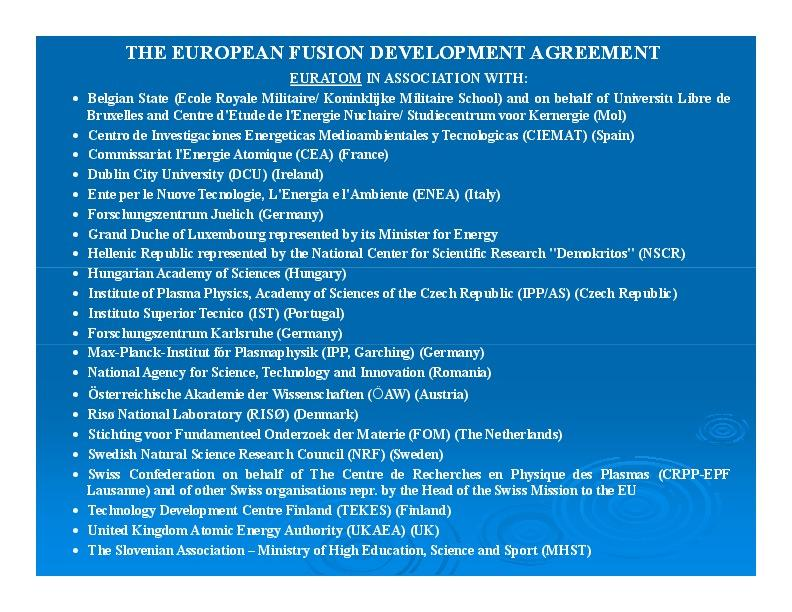subtitle: (66, 85, 742, 568)
title: (118, 33, 669, 71)
